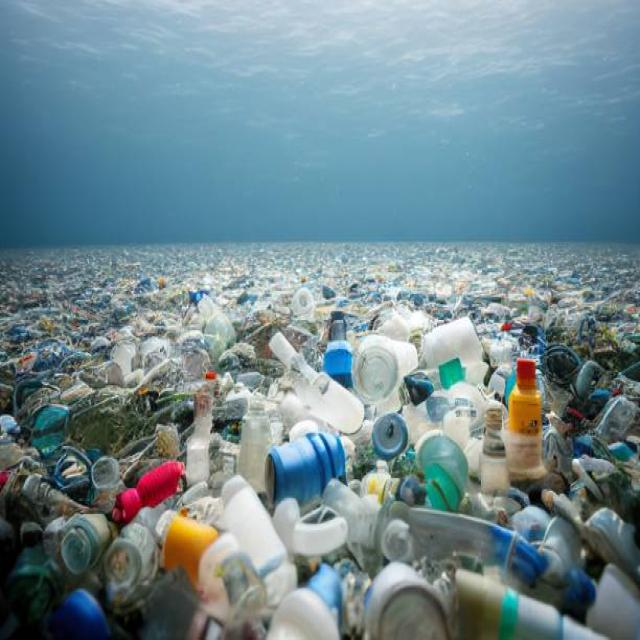plastic: (93, 260, 582, 568)
